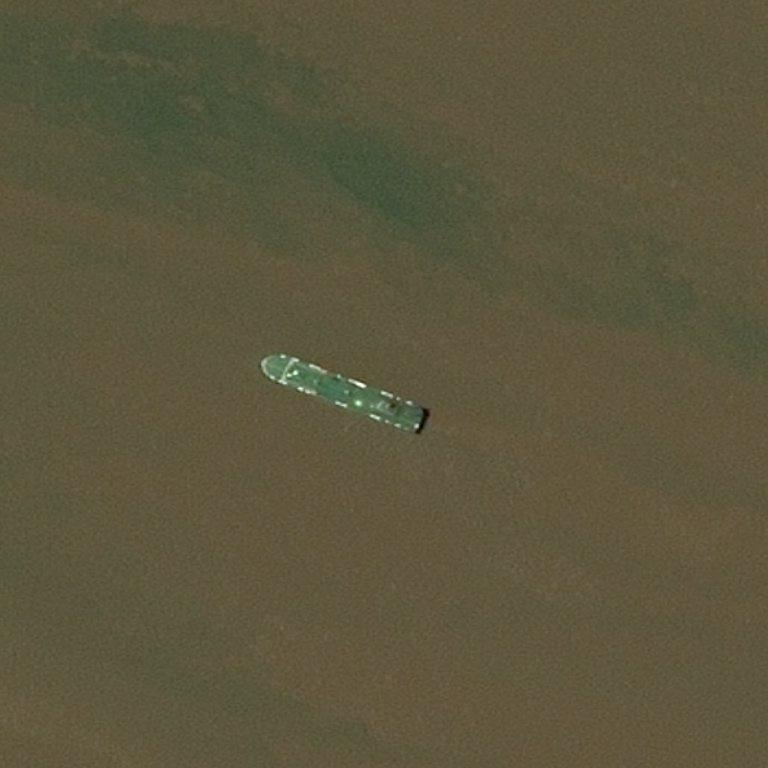ship: (261, 356, 271, 375), (256, 387, 428, 388), (420, 399, 427, 415), (410, 425, 422, 434)
